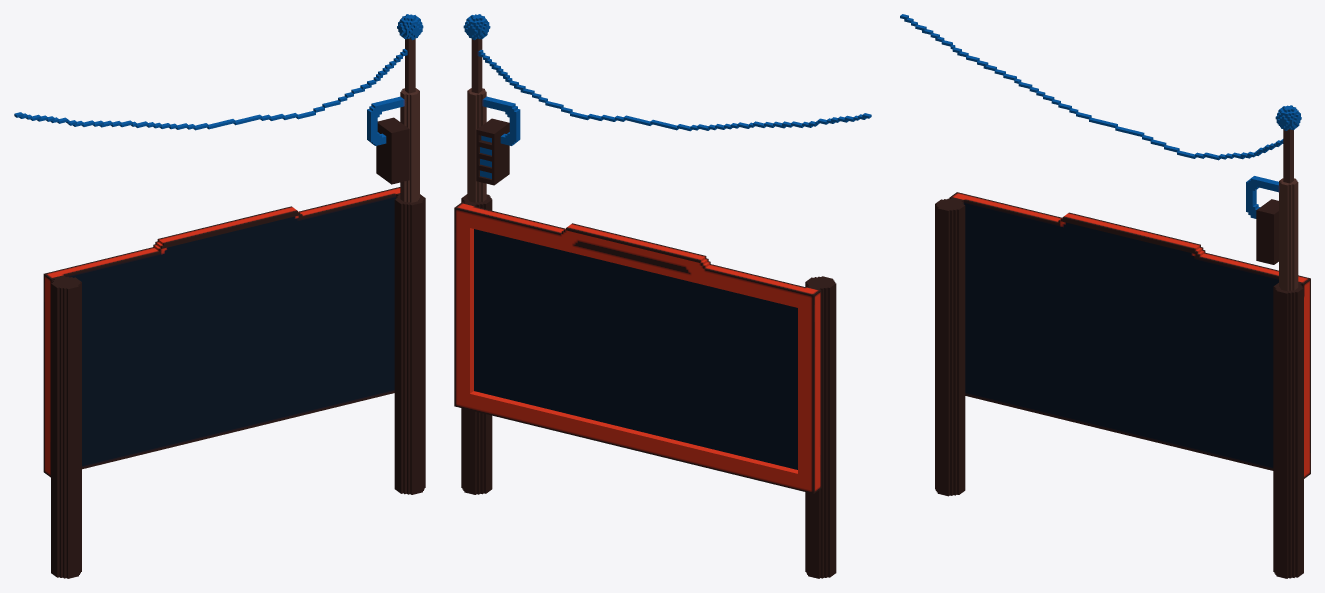
Rendered from Test-1-Bildboard.fbx.
The picture shows the model from 3 angles, left to right: view 1: azimuth 30°, elevation 25°; view 2: azimuth 150°, elevation 25°; view 3: azimuth 330°, elevation 25°; orthographic projection.
Parts seen in each view (by area): view 1: transform1; view 2: transform1; view 3: transform1.
Boxes of the visible parts, x1,y1,x2,y2 form: transform1: (14,14,425,578); transform1: (454,14,871,578); transform1: (900,14,1310,578).
Size of the model in its own units: 182 by 202 by 17.
